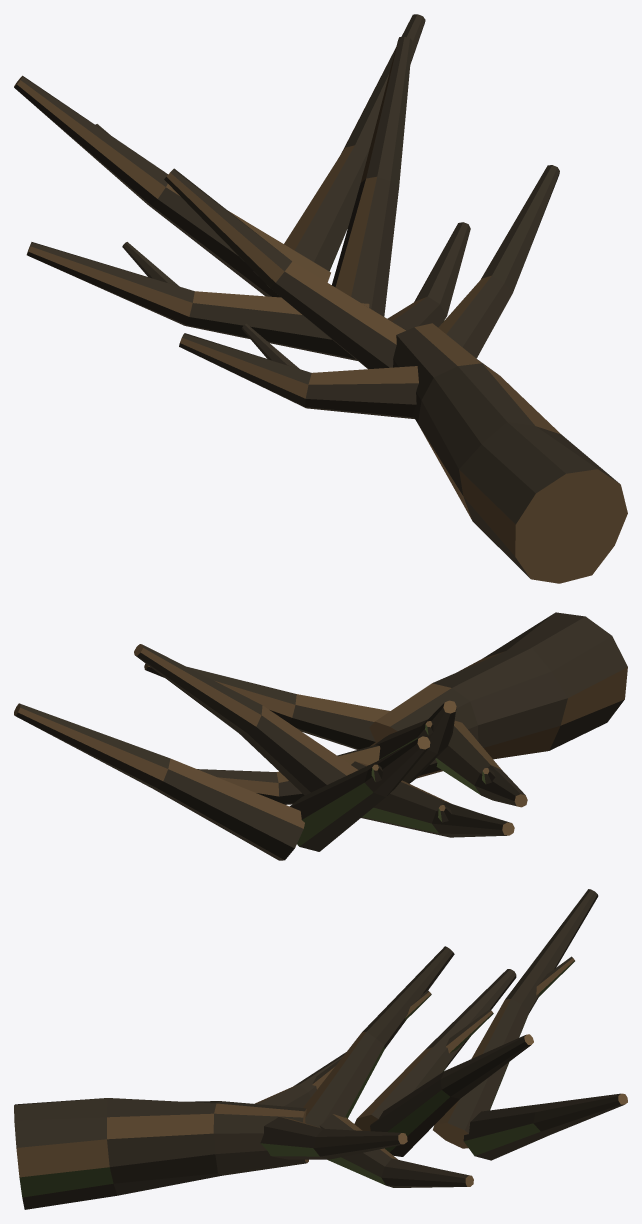
Rendered from wood_009b_high_branch_crown.glb.
3 renders of one model, top to bottom at view 1: azimuth 30°, elevation 25°; view 2: azimuth 150°, elevation 25°; view 3: azimuth 270°, elevation 25°, orthographic. The views are drawn at different scales.
Visible parts, largest first — view 1: wood_009b_high_branch_crown__mesh; view 2: wood_009b_high_branch_crown__mesh; view 3: wood_009b_high_branch_crown__mesh.
Boxes of the visible parts, left/top/right/bottom form: wood_009b_high_branch_crown__mesh: left=14, top=14, right=627, bottom=583; wood_009b_high_branch_crown__mesh: left=14, top=612, right=627, bottom=860; wood_009b_high_branch_crown__mesh: left=14, top=889, right=627, bottom=1209.
Size of the model in its own units: 8.76 by 5.26 by 12.41.
